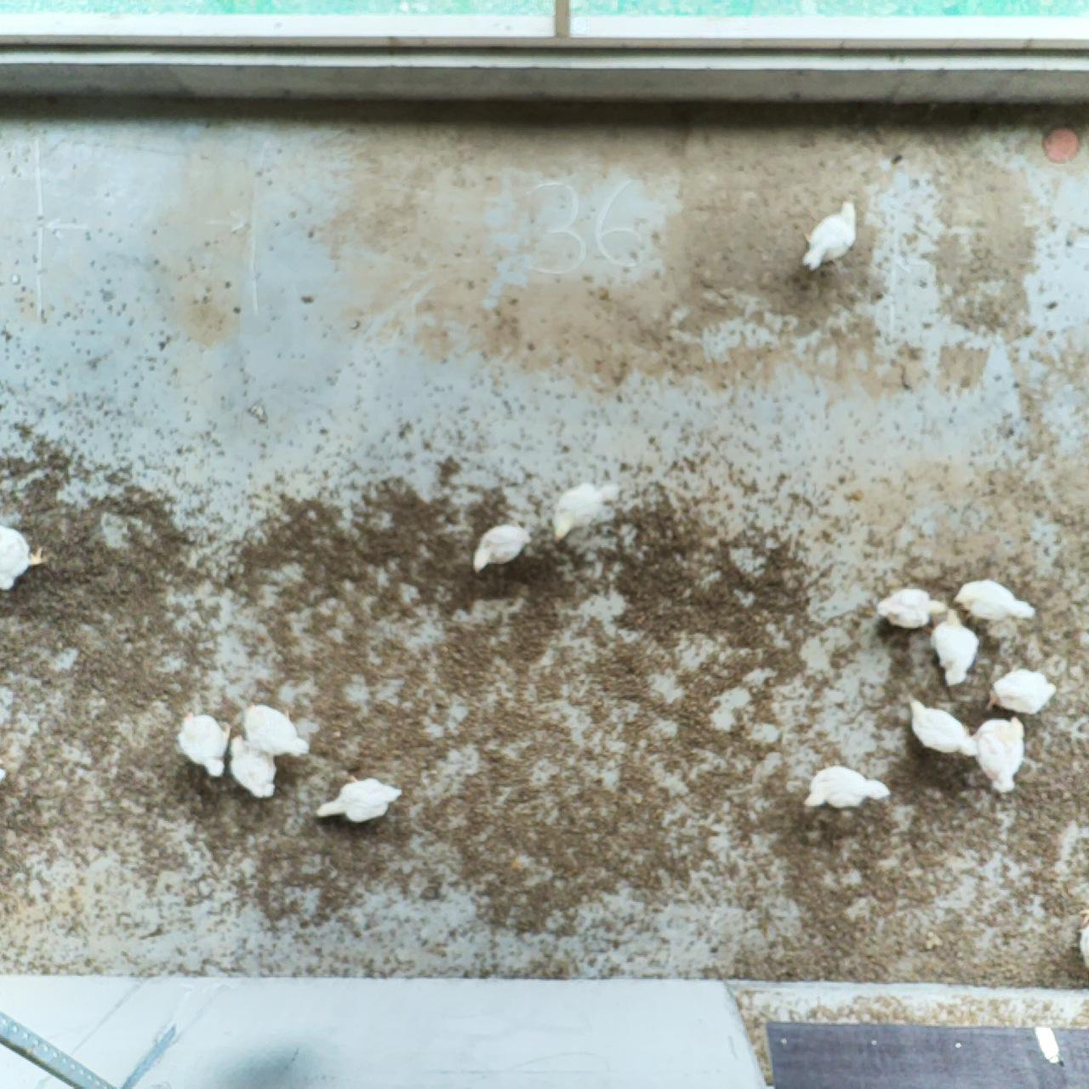chicken: (315, 771, 405, 825), (549, 479, 621, 544), (972, 712, 1029, 794), (800, 197, 861, 272), (928, 606, 983, 689), (803, 763, 893, 812), (907, 698, 977, 760), (954, 576, 1040, 626), (240, 700, 308, 760), (177, 708, 232, 781), (986, 667, 1059, 717), (227, 734, 282, 800), (470, 520, 534, 575), (874, 585, 948, 630), (0, 523, 47, 590), (1075, 902, 1089, 969)
